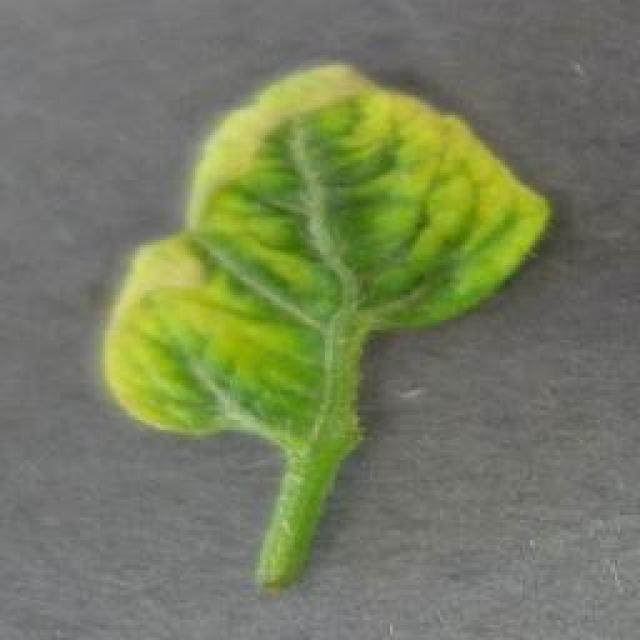Tom_Yellow_Leaf_Curl_Virus: (109, 81, 508, 411)
